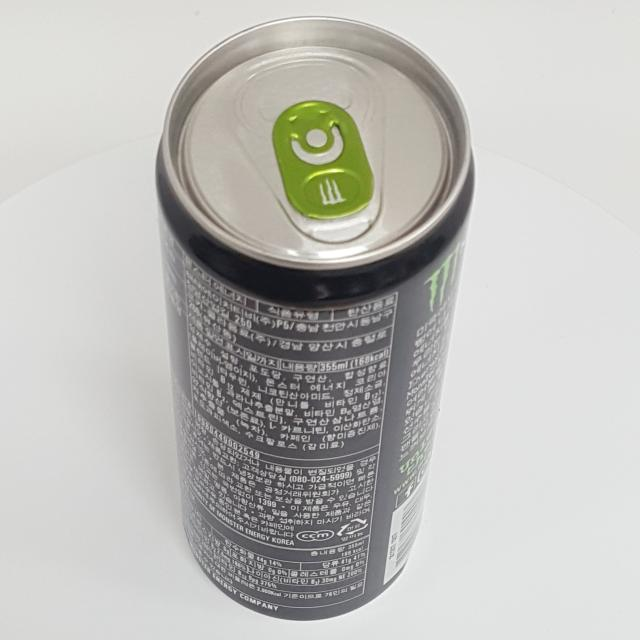--------355ML: (154, 15, 472, 622)
